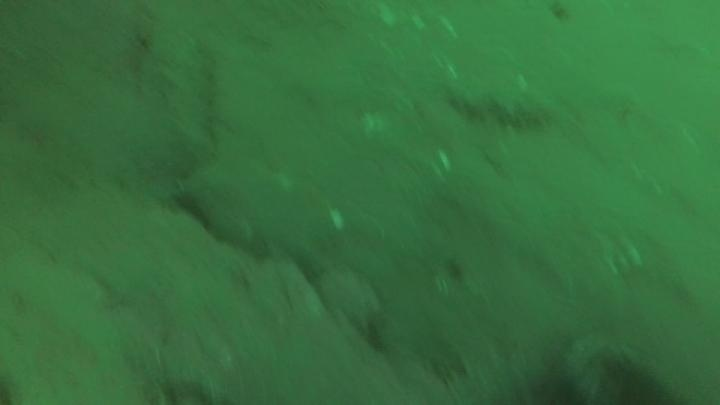holothurian: (153, 32, 221, 163), (444, 78, 556, 133)
